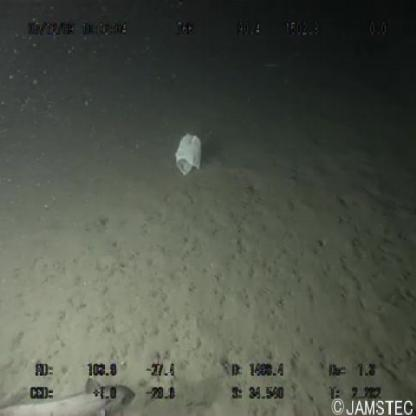Bio: (1, 375, 139, 416)
Rác: (174, 128, 206, 186)
